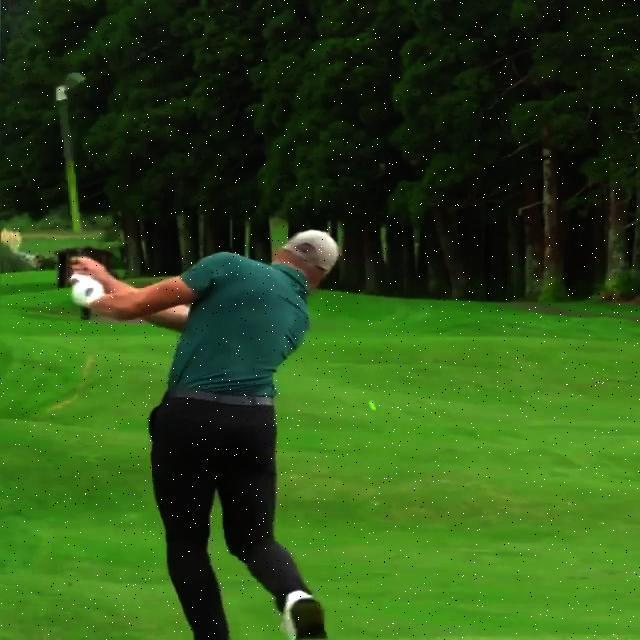ClubHead: (58, 73, 85, 89)
GolfBall: (369, 401, 378, 410)
